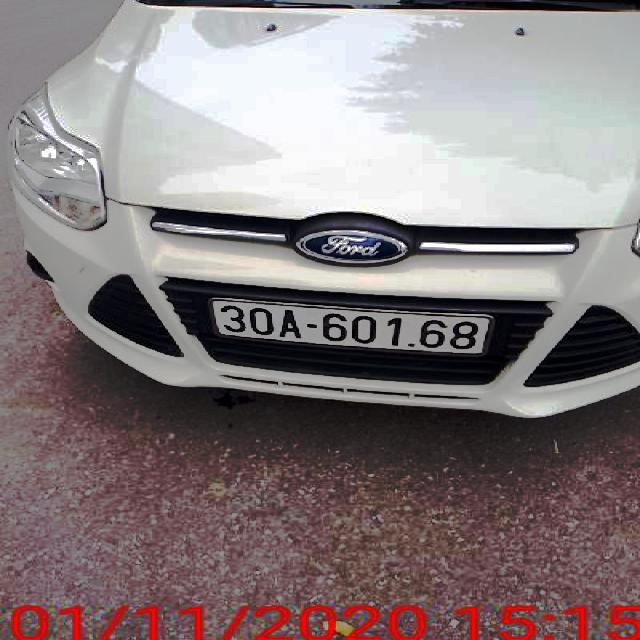license_plate: (212, 301, 491, 357)
